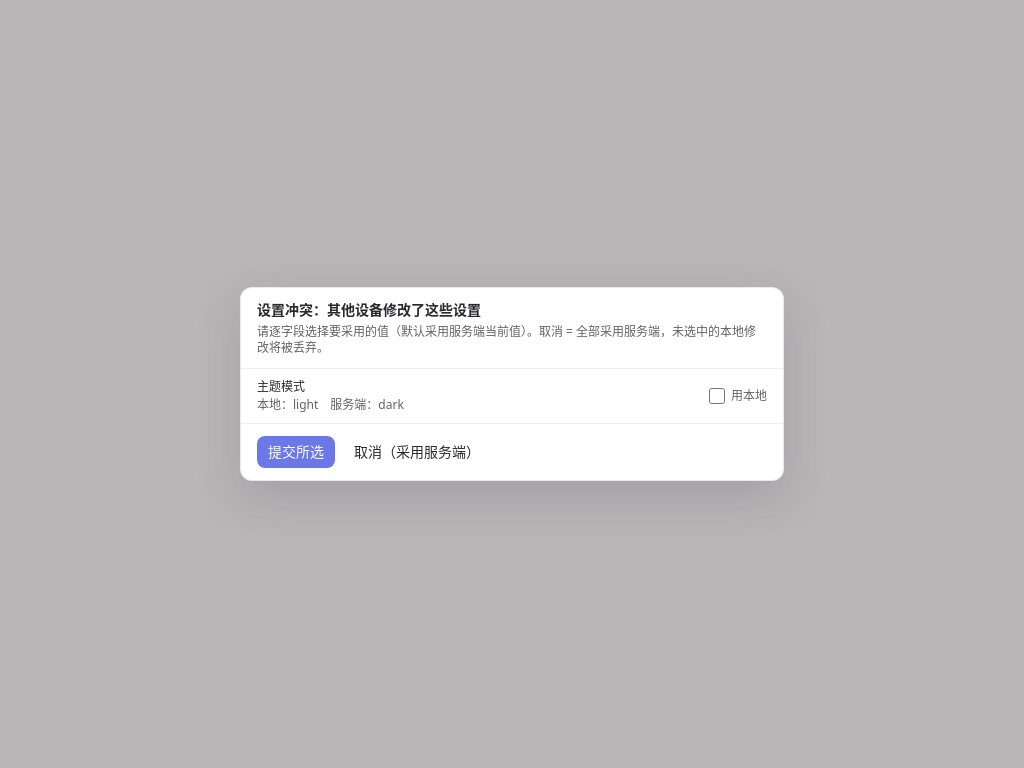
F116 设置冲突解决 › F116: 再次 409 → 快照刷新、对话框保持再选
Click the checkbox named "采用本地值：主题模式".
click(717, 396)  # box [709,388,725,404]
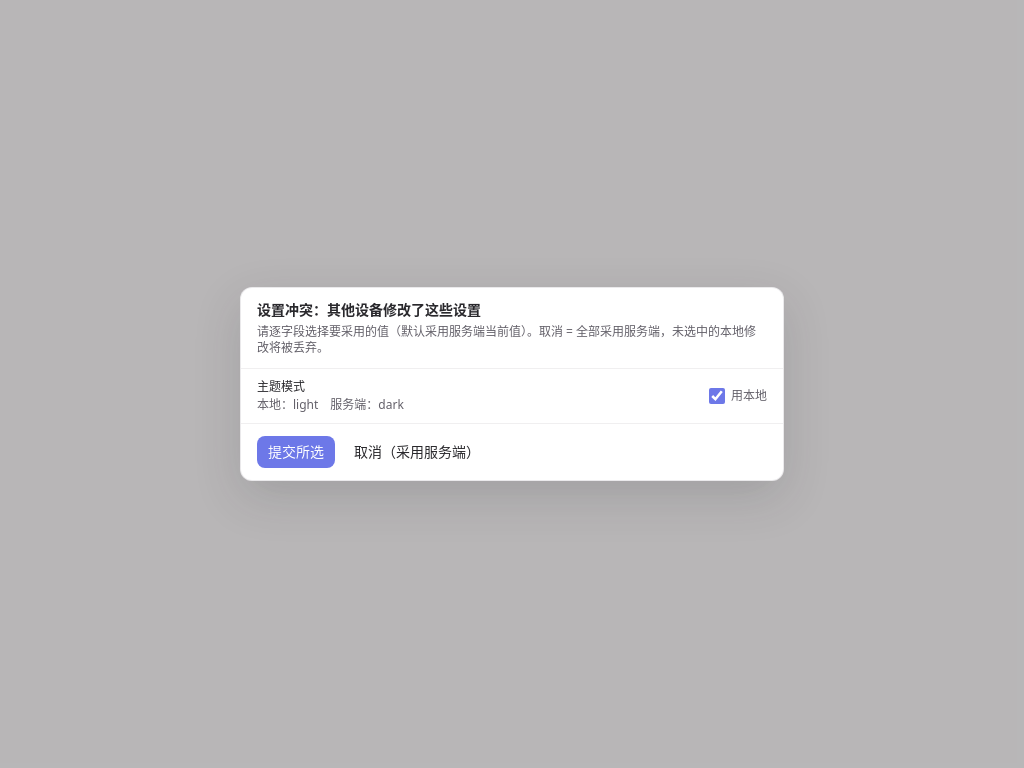
Click the button "提交所选".
click(296, 452)  # box [257,436,335,468]
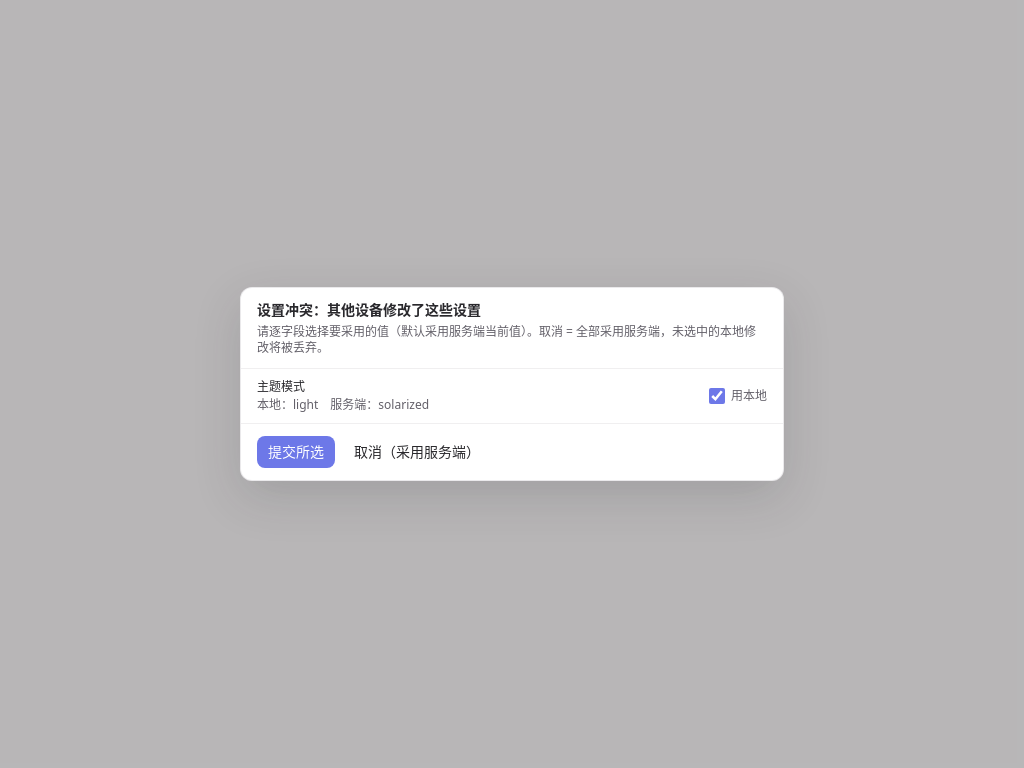
Now the text "服务端：solarized" is shown, box [330,397,429,413]
